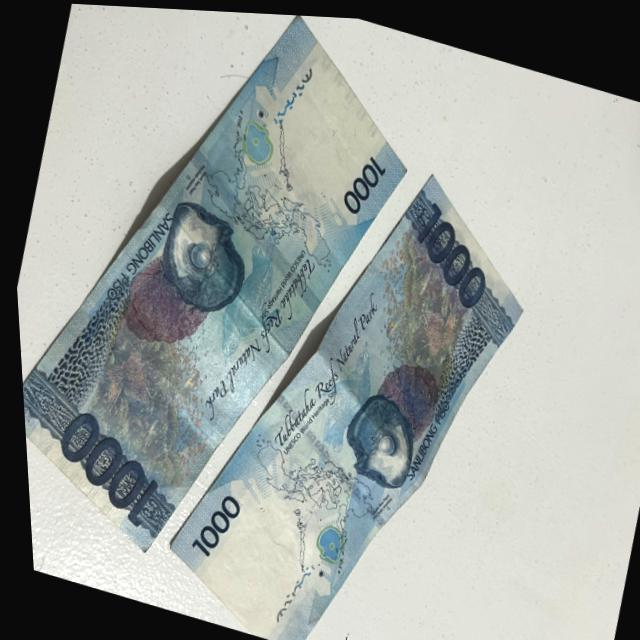1000_pearl: (141, 194, 263, 323), (333, 383, 423, 486)
1000_pearl_watermark: (229, 108, 280, 170), (297, 519, 341, 571)
